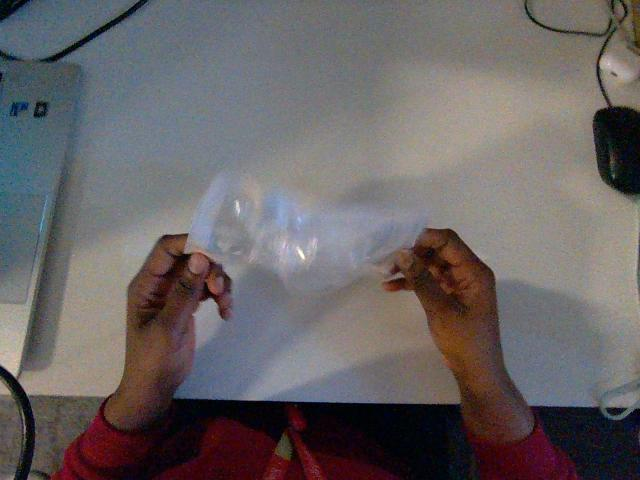gallipot: (186, 172, 425, 292)
